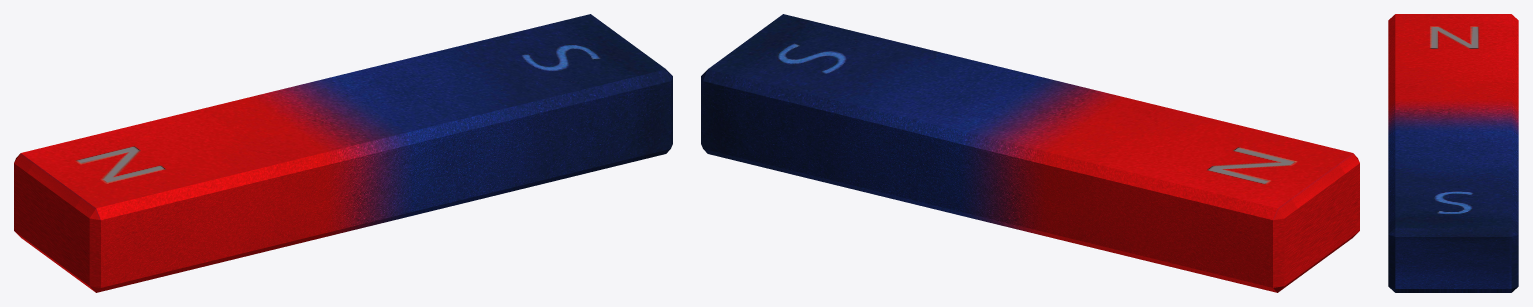
The model's file is magnet 13,4.fbx.
The picture shows the model from 3 angles, left to right: view 1: azimuth 30°, elevation 25°; view 2: azimuth 150°, elevation 25°; view 3: azimuth 270°, elevation 25°; orthographic projection. The views are drawn at different scales.
Visible parts, largest first — view 1: pasted__pCube1; view 2: pasted__pCube1; view 3: pasted__pCube1.
Boxes of the visible parts, x1,y1,x2,y2 form: pasted__pCube1: (14,14,672,292); pasted__pCube1: (701,14,1359,292); pasted__pCube1: (1388,14,1518,292).
Bounding box in the file's own units: 12.81 × 1.78 × 3.23.
Materials: 2 (2 with a texture image).
